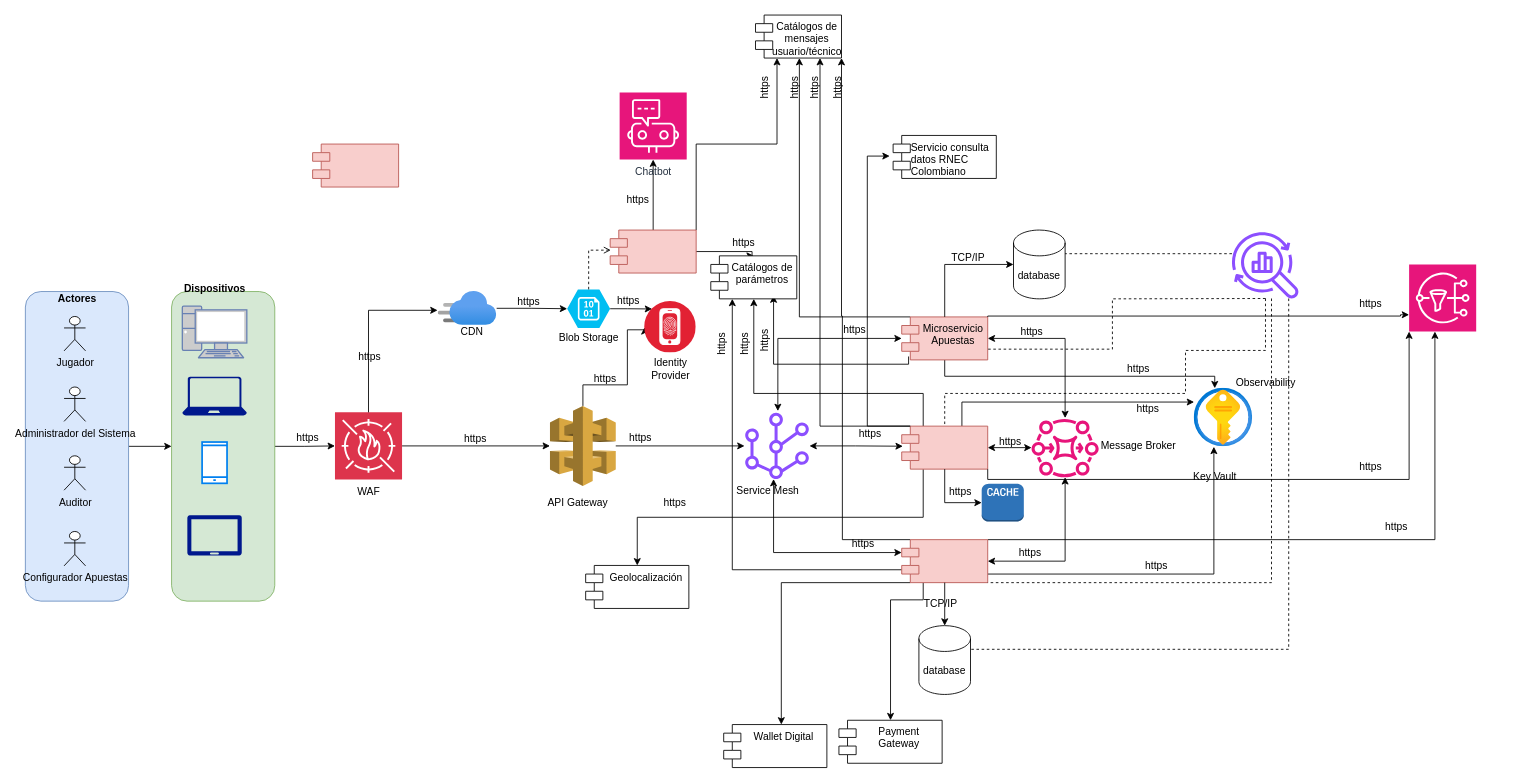
Some shapes in this 1520 by 783 pixel diagram are drawn without their labels. Here are the shapes that lost their labels. From the top down, the centre of each, then its label:
the point at 355,165: Desarrollados a la medida
the point at 652,251: Front End UCOBet
the point at 1442,298: Componente Notificaciones
the point at 944,447: Microservicio Usuarios
the point at 944,561: Microservicio Pagos
